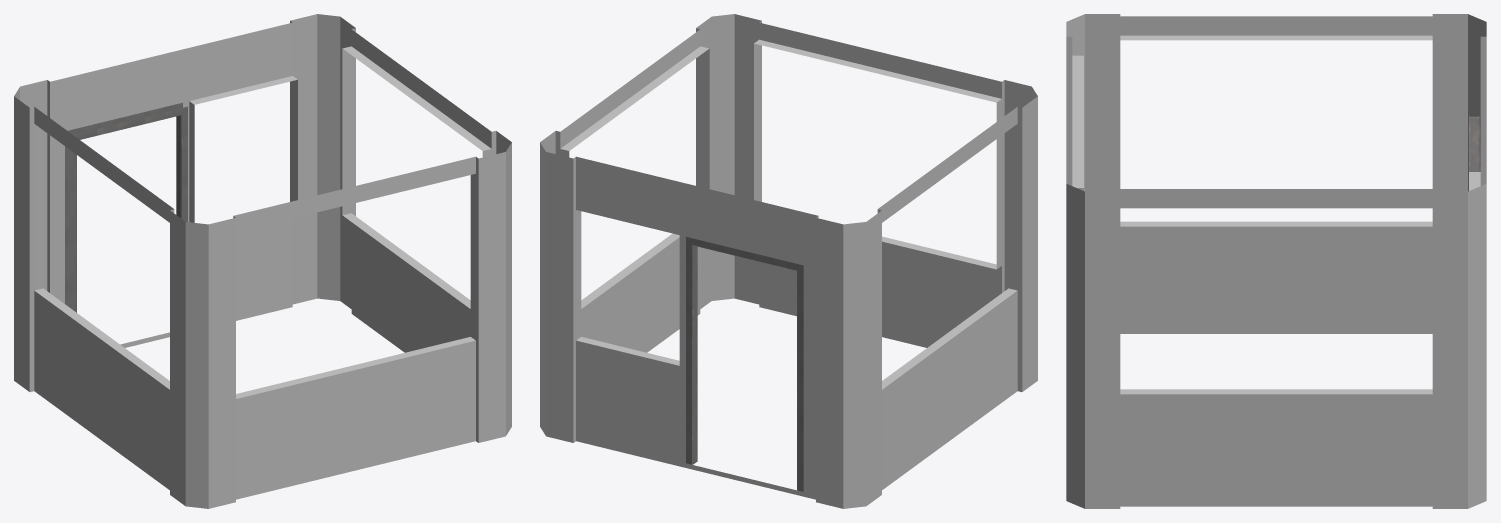
File: SM_GuardTower_LG_GT_Exterior_Cabin.fbx
3 renders of one model, left to right at view 1: azimuth 30°, elevation 25°; view 2: azimuth 150°, elevation 25°; view 3: azimuth 270°, elevation 25°, orthographic. The views are drawn at different scales.
Visible parts, largest first — view 1: SM_GuardTower_LG_GT_Exterior_Cabin; view 2: SM_GuardTower_LG_GT_Exterior_Cabin; view 3: SM_GuardTower_LG_GT_Exterior_Cabin.
Boxes of the visible parts, x1,y1,x2,y2 form: SM_GuardTower_LG_GT_Exterior_Cabin: [14, 14, 511, 508]; SM_GuardTower_LG_GT_Exterior_Cabin: [540, 14, 1037, 508]; SM_GuardTower_LG_GT_Exterior_Cabin: [1066, 14, 1486, 508].
Bounding box in the file's own units: 360 × 360 × 300.
